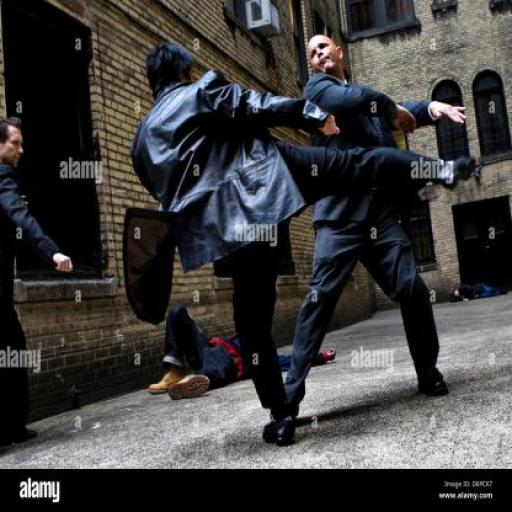Fighting: (112, 28, 478, 444)
